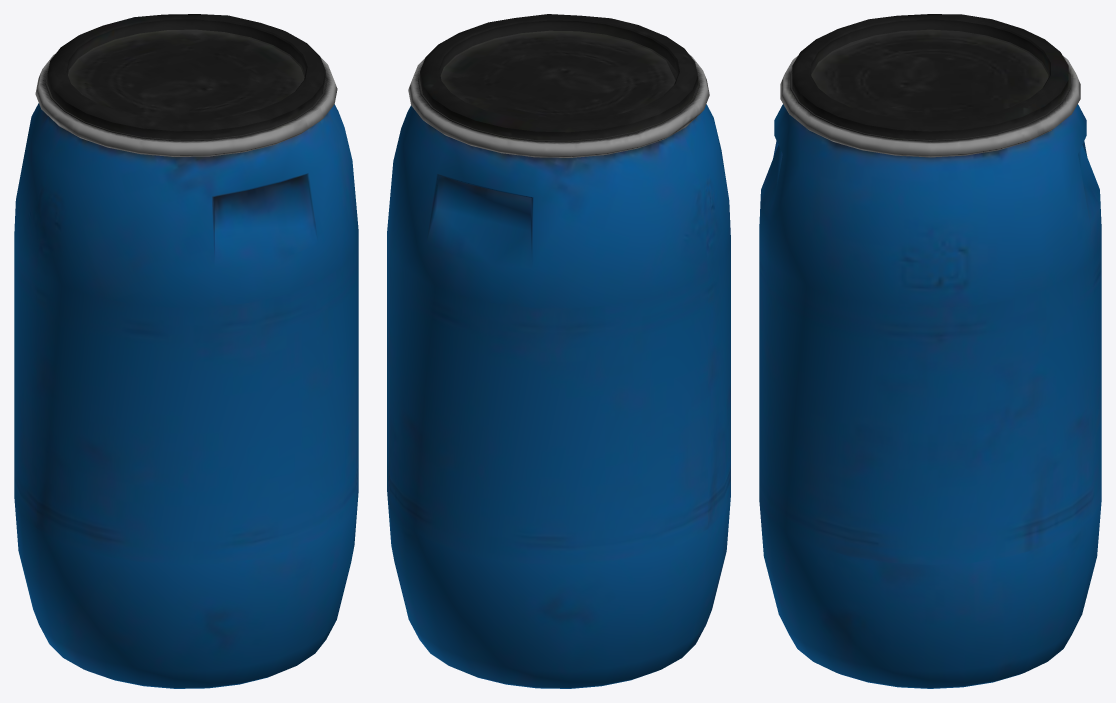
File: barrel_02.glb
3 views of the same model, side by side, from view 1: azimuth 30°, elevation 25°; view 2: azimuth 150°, elevation 25°; view 3: azimuth 270°, elevation 25° (orthographic).
Parts seen in each view (by area): view 1: Barrel_02; view 2: Barrel_02; view 3: Barrel_02.
Part boxes in pixels (x1=…): Barrel_02: x1=14, y1=14, x2=358, y2=688; Barrel_02: x1=387, y1=14, x2=730, y2=688; Barrel_02: x1=759, y1=14, x2=1101, y2=688.
Bounding box in the file's own units: 0.4882 × 0.88 × 0.4846.
Materials: 1 (1 with a texture image).
